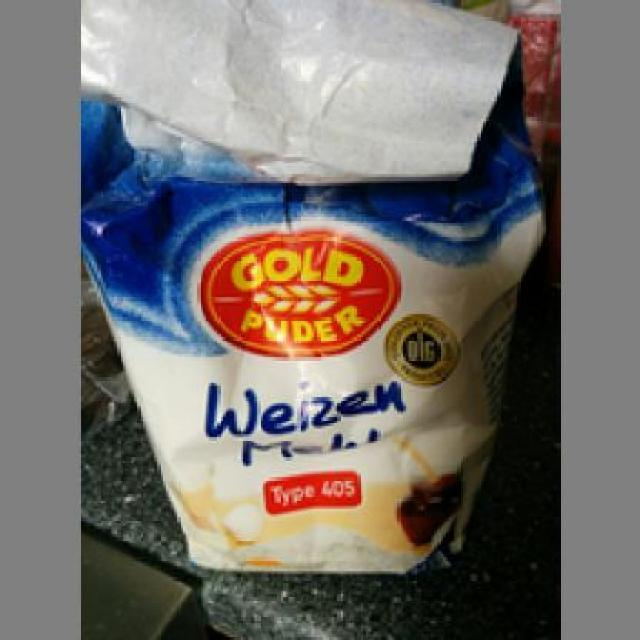Flour: (77, 0, 543, 572)
